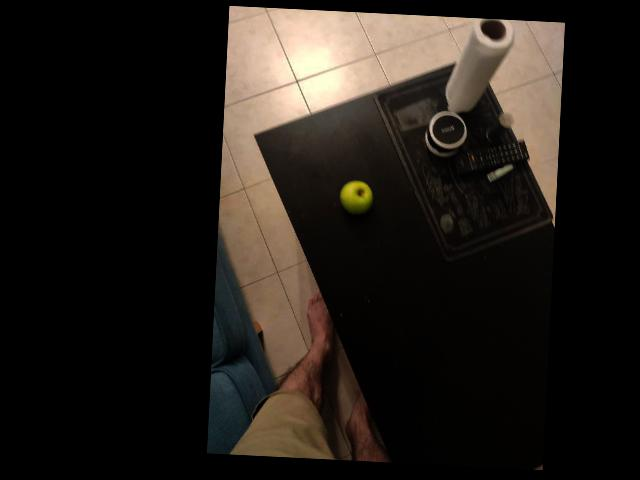apple: (346, 128, 393, 168)
